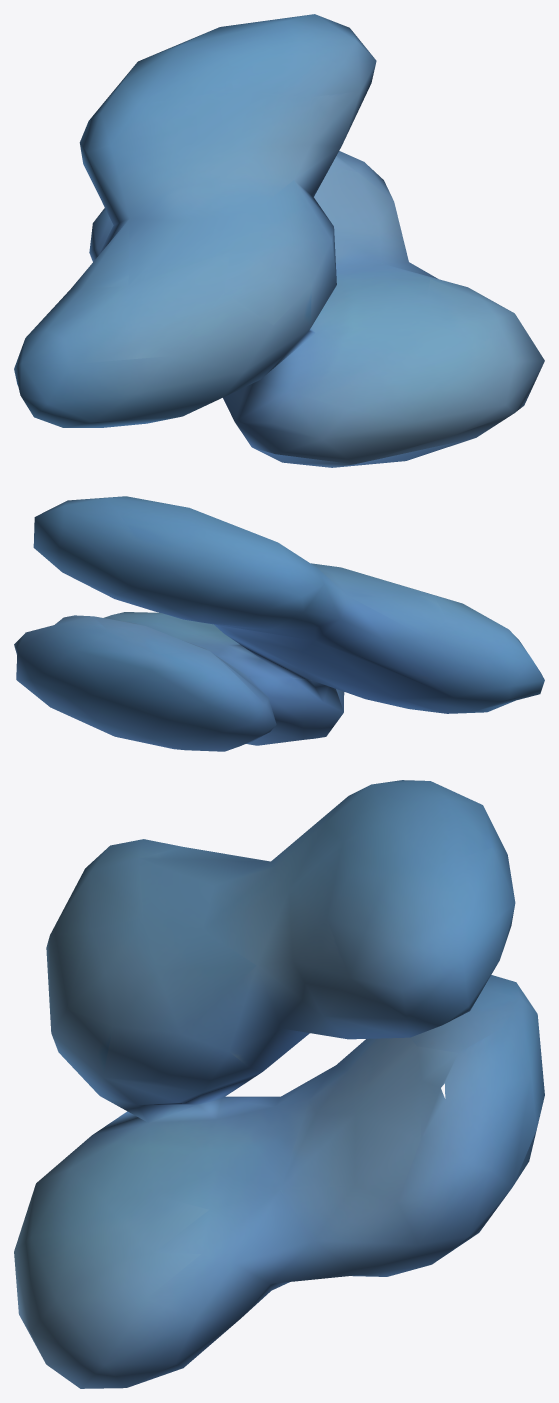
The model's file is diplococcus.glb.
The picture shows the model from 3 angles, top to bottom: view 1: azimuth 30°, elevation 25°; view 2: azimuth 150°, elevation 25°; view 3: azimuth 270°, elevation 25°; orthographic projection. The views are drawn at different scales.
Parts seen in each view (by area): view 1: diplococcus; view 2: diplococcus; view 3: diplococcus.
Boxes of the visible parts, x1,y1,x2,y2 form: diplococcus: (14,14,544,467); diplococcus: (14,496,544,751); diplococcus: (14,780,544,1388).
Size of the model in its own units: 1.54 by 0.9735 by 0.9673.
1 material, 1 textured.
